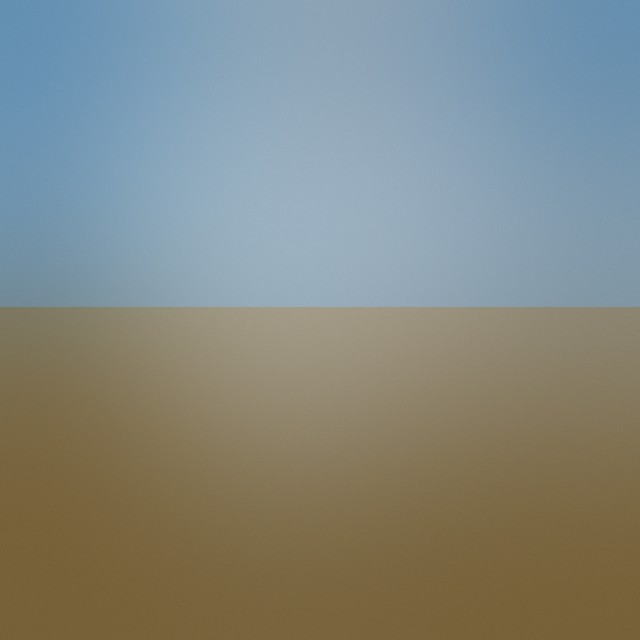smoke: (260, 7, 640, 395)
